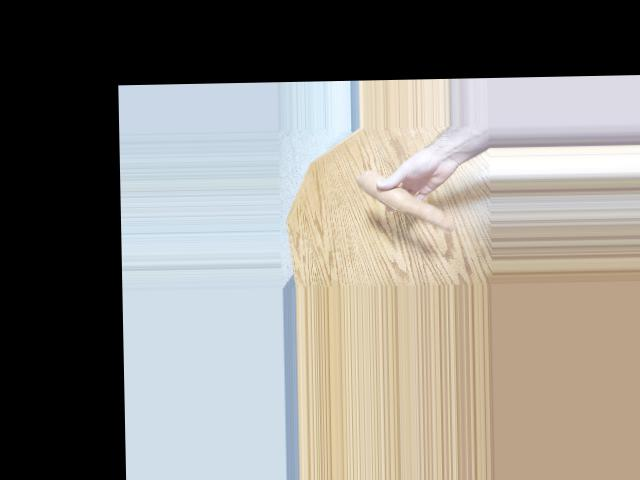sweet_potato: (345, 172, 453, 226)
